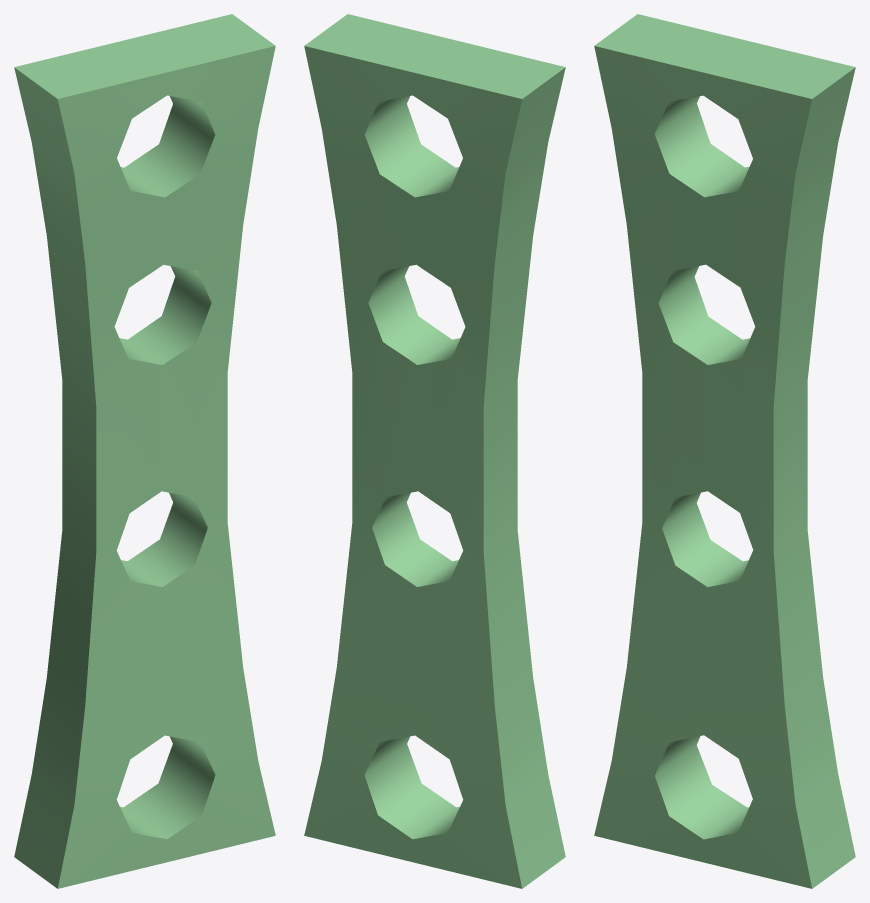
The model's file is Pillar_Iron.fbx.
3 views of the same model, side by side, from view 1: azimuth 30°, elevation 25°; view 2: azimuth 150°, elevation 25°; view 3: azimuth 330°, elevation 25° (orthographic).
Parts seen in each view (by area): view 1: Pillar_Iron; view 2: Pillar_Iron; view 3: Pillar_Iron.
Part boxes in pixels (x1,y1,x2,y2): Pillar_Iron: (14, 14, 275, 888); Pillar_Iron: (304, 14, 565, 888); Pillar_Iron: (594, 14, 855, 888).
Size of the model in its own units: 1.16 by 4 by 0.4018.
